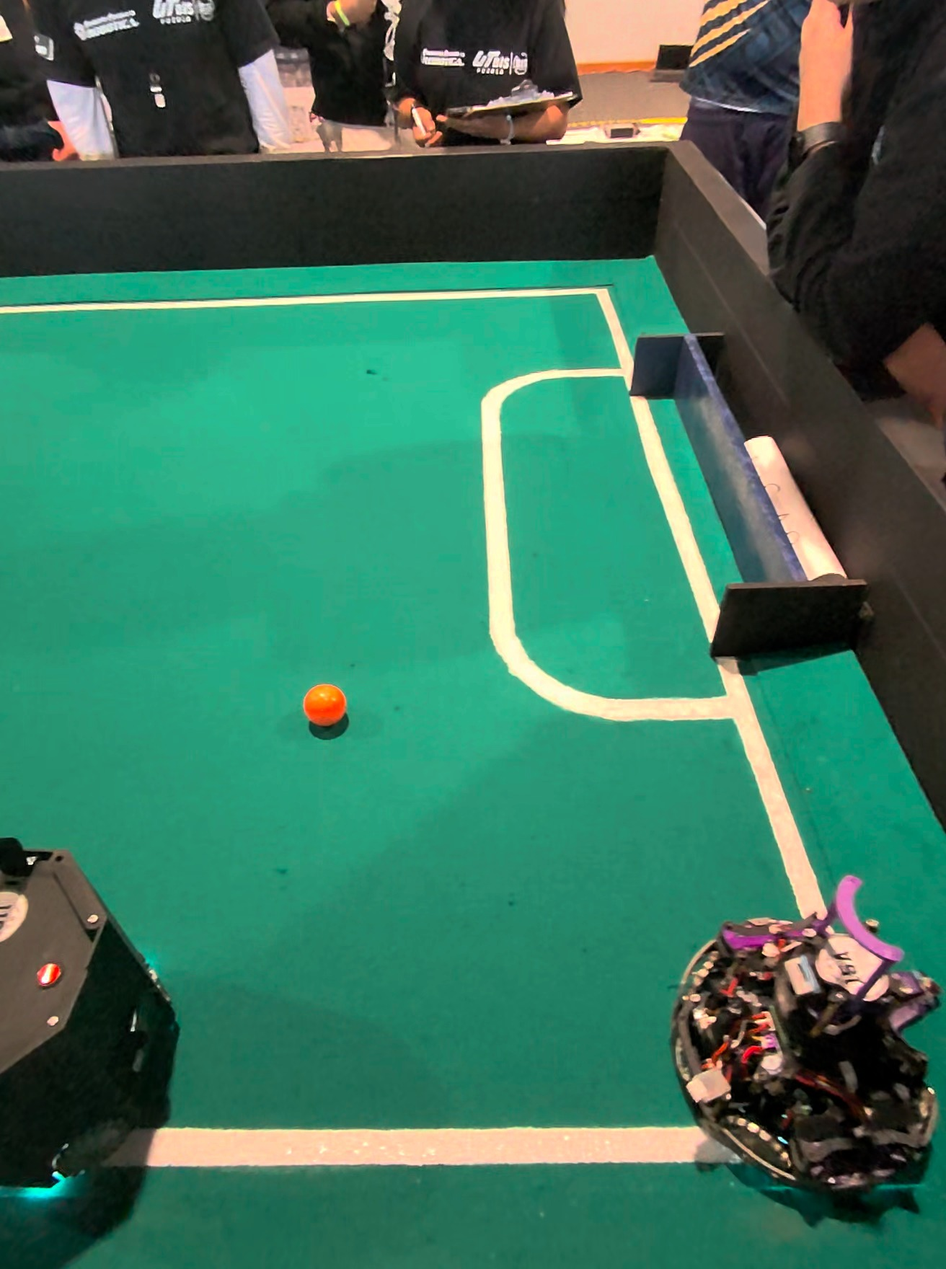Robot: (668, 891, 946, 1239), (0, 790, 202, 1224)
pelota: (301, 685, 349, 737)
